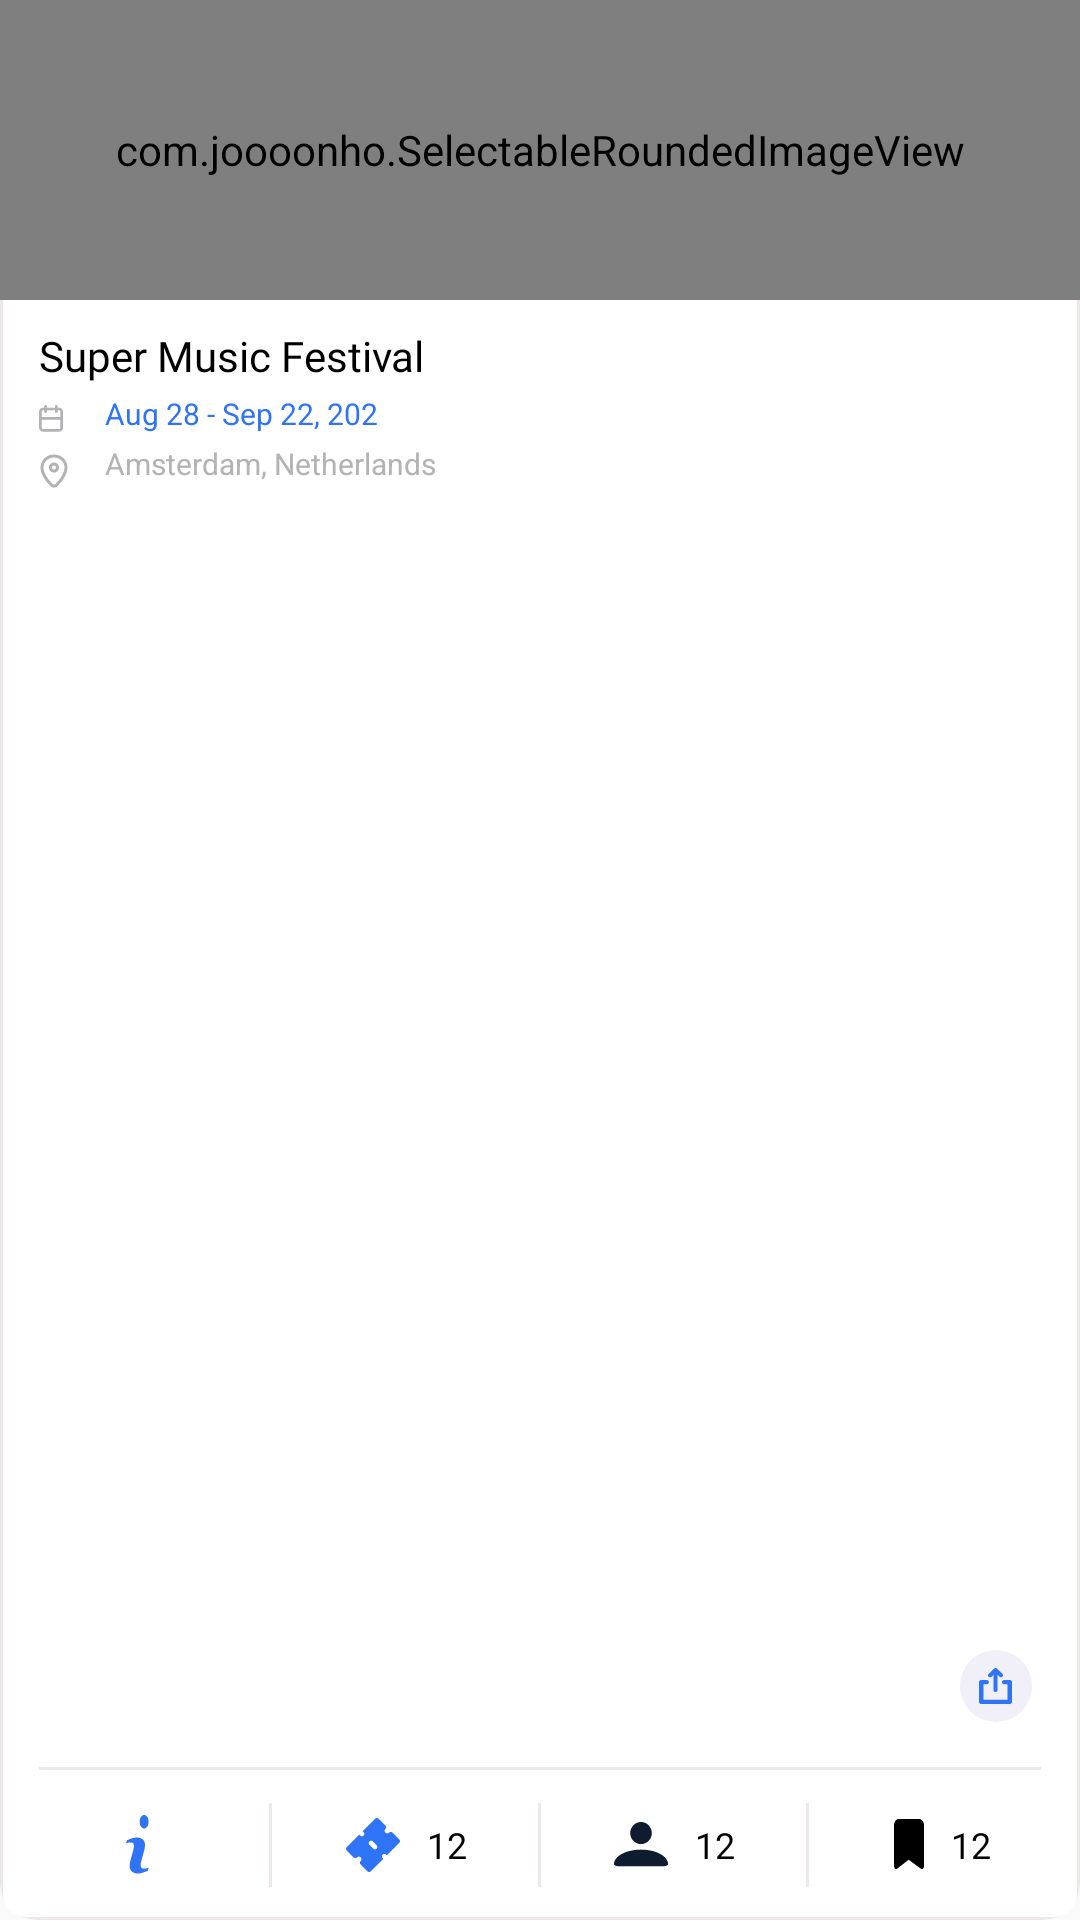

Locate icon controls on the screen. Image size 1080*1920, boxes as region(x1, y1, x2, y2).
caledar: region(39, 405, 63, 432)
info: region(126, 1815, 149, 1874)
location: region(40, 454, 68, 488)
people: region(614, 1822, 668, 1867)
share: region(979, 1668, 1012, 1704)
tickets: region(346, 1818, 400, 1872)
